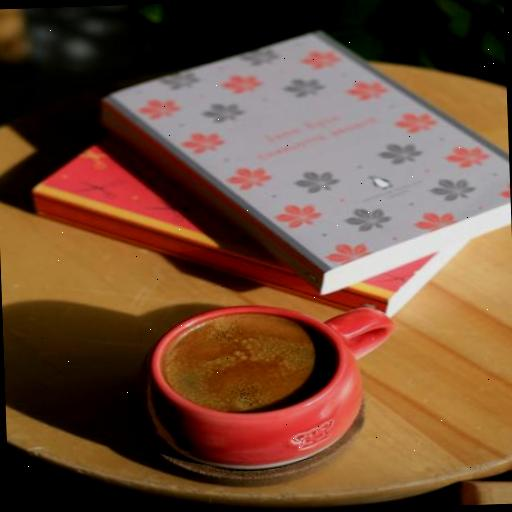cup: (140, 299, 400, 474)
